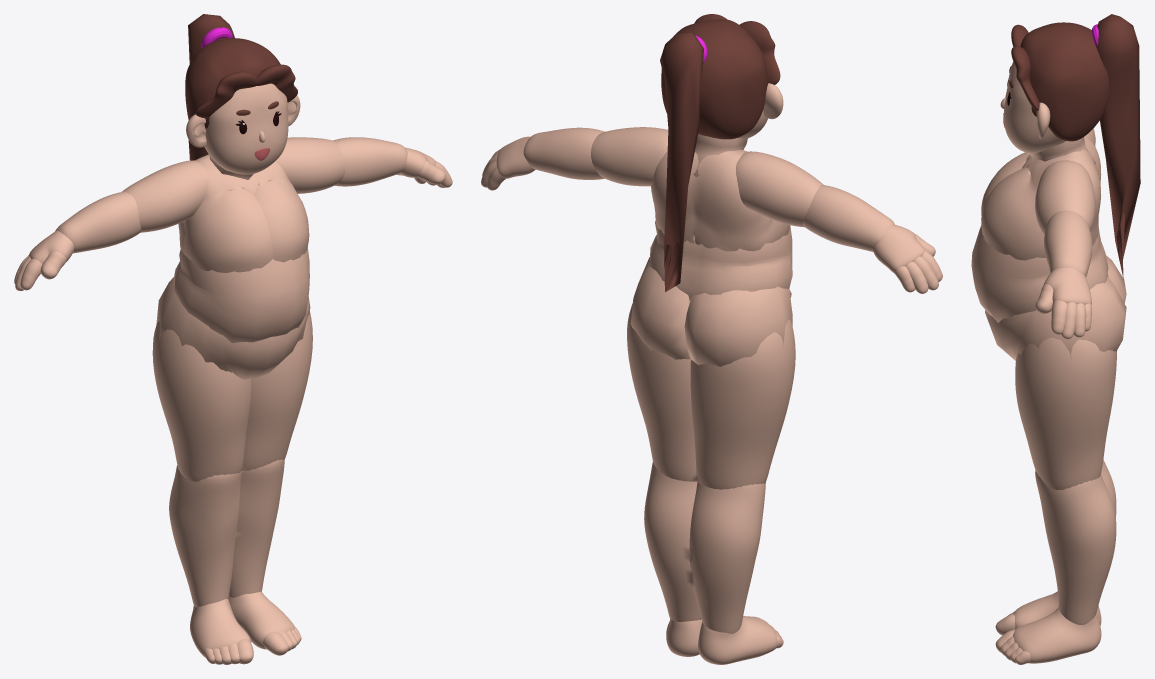
File: female_model10.glb
The picture shows the model from 3 angles, left to right: view 1: azimuth 30°, elevation 25°; view 2: azimuth 150°, elevation 25°; view 3: azimuth 270°, elevation 25°; orthographic projection. The views are drawn at different scales.
Visible parts, largest first — view 1: leg.009, chest 1.009, arm.009, arm 2.009, foot.009, head.010, pelvis.009, Icosphere.019, hand.009, Cube.040, Icosphere.020, ears.010; view 2: leg.009, chest 1.009, pelvis.009, arm.009, Icosphere.019, Icosphere.020, arm 2.009, hand.009, foot.009, Cube.040, neck.009; view 3: leg.009, chest 1.009, Icosphere.019, Icosphere.020, foot.009, pelvis.009, arm.009, hand.009, arm 2.009, head.010, Cube.040, neck.009 (+1 smaller).
Boxes of the visible parts, x1,y1,x2,y2 form: leg.009: (152, 312, 312, 607); chest 1.009: (174, 154, 309, 343); arm.009: (122, 137, 345, 232); arm 2.009: (55, 137, 407, 253); foot.009: (190, 591, 301, 664); head.010: (204, 83, 288, 174); pelvis.009: (156, 277, 310, 379); Icosphere.019: (185, 38, 280, 128); hand.009: (14, 147, 452, 290); Cube.040: (195, 64, 297, 118); Icosphere.020: (188, 14, 234, 160); ears.010: (186, 95, 300, 147); leg.009: (627, 304, 795, 633); chest 1.009: (649, 150, 792, 300); pelvis.009: (630, 257, 792, 366); arm.009: (591, 127, 823, 227); Icosphere.019: (661, 19, 768, 139); Icosphere.020: (660, 31, 703, 292); arm 2.009: (523, 127, 894, 251); hand.009: (481, 136, 942, 293); foot.009: (666, 616, 783, 664); Cube.040: (694, 14, 780, 84); neck.009: (693, 134, 747, 176); leg.009: (1015, 337, 1116, 625); chest 1.009: (971, 135, 1108, 322); Icosphere.019: (1020, 22, 1109, 141); Icosphere.020: (1096, 14, 1140, 278); foot.009: (995, 591, 1101, 664); pelvis.009: (985, 255, 1126, 360); arm.009: (1035, 128, 1095, 234); hand.009: (1035, 267, 1091, 339); arm 2.009: (1044, 210, 1092, 277); head.010: (1003, 61, 1065, 152); Cube.040: (1011, 24, 1039, 110); neck.009: (1028, 137, 1095, 164).
Size of the model in its own units: 15.44 by 20.78 by 5.06.
